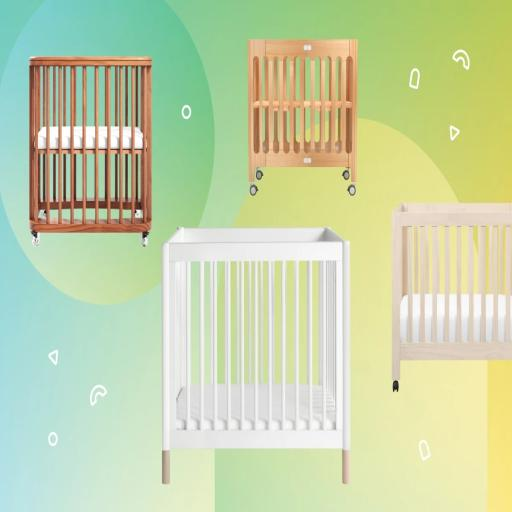crib: (163, 228, 349, 483), (30, 57, 151, 245), (392, 203, 511, 390), (248, 40, 357, 195)
